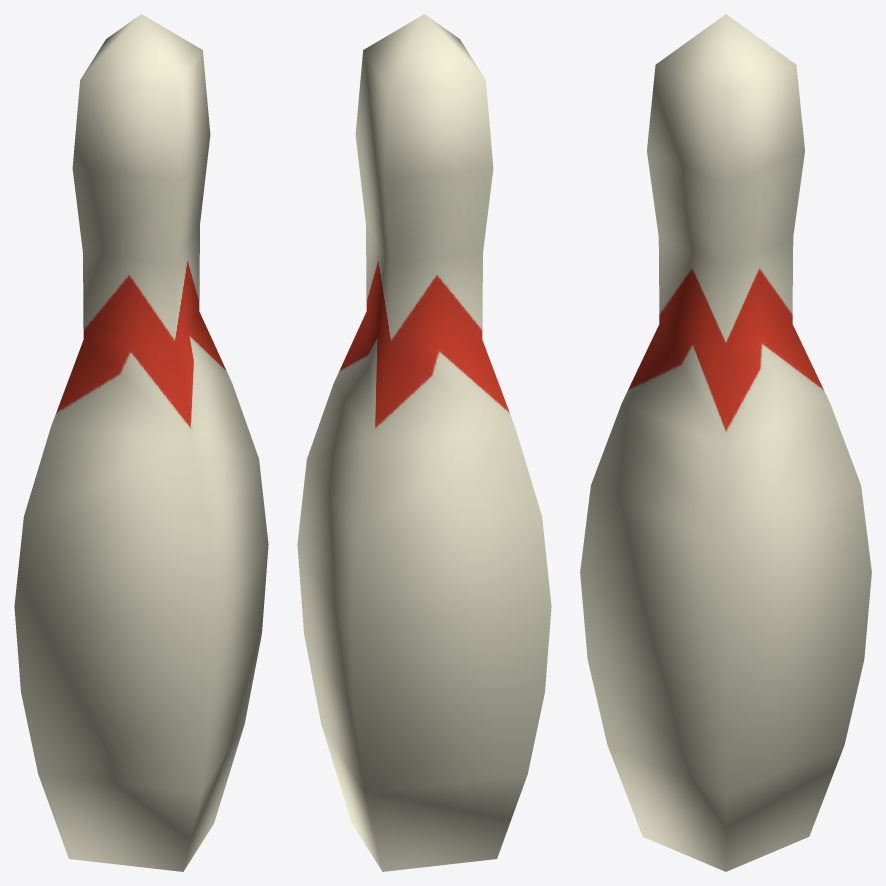
File: bwg_Pin__bwg_pin_74_10.glb
3 views of the same model, side by side, from view 1: azimuth 30°, elevation 25°; view 2: azimuth 150°, elevation 25°; view 3: azimuth 270°, elevation 25° (orthographic).
Parts seen in each view (by area): view 1: polygon0; view 2: polygon0; view 3: polygon0.
Part boxes in pixels (x1,y1,x2,y2): polygon0: (14,14,268,871); polygon0: (297,14,551,871); polygon0: (580,14,871,871).
Size of the model in its own units: 1.22 by 3.8 by 1.22.
1 material, 1 textured.
